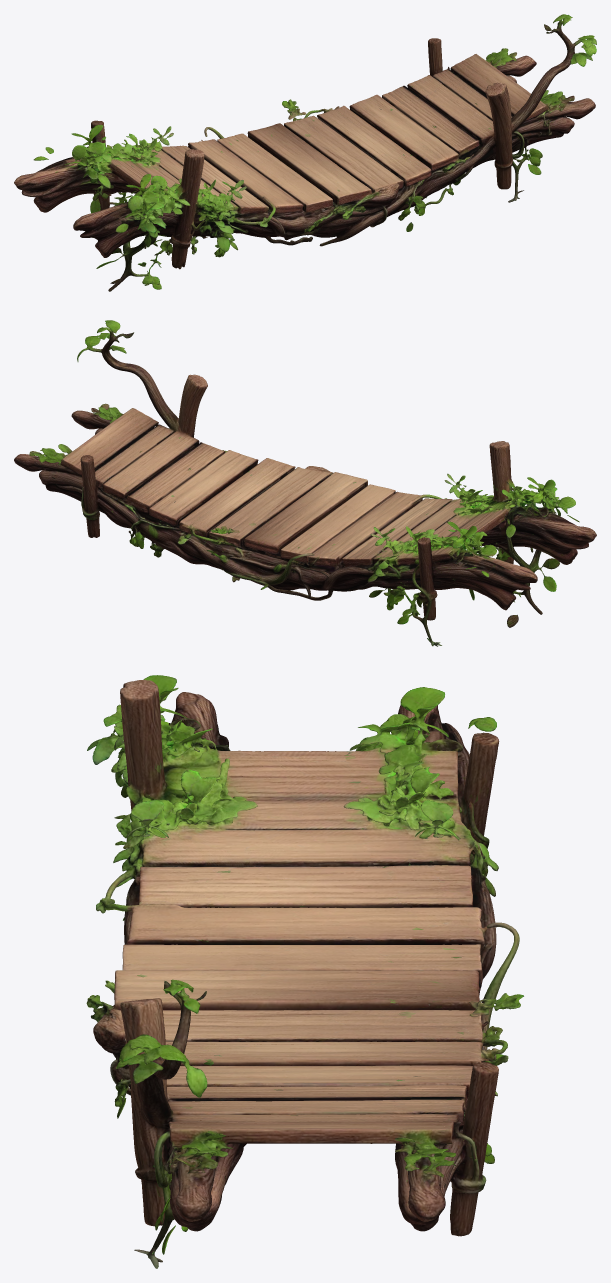
3 views of the same model, one above another, from view 1: azimuth 30°, elevation 25°; view 2: azimuth 150°, elevation 25°; view 3: azimuth 270°, elevation 25° (orthographic). The views are drawn at different scales.
Visible parts, largest first — view 1: mesh_0; view 2: mesh_0; view 3: mesh_0.
Part boxes in pixels (x1=…): mesh_0: x1=14, y1=14, x2=596, y2=291; mesh_0: x1=14, y1=320, x2=596, y2=646; mesh_0: x1=86, y1=675, x2=523, y2=1268.
Size of the model in its own units: 1.9 by 0.6366 by 0.6889.
Materials: 1 (1 with a texture image).
